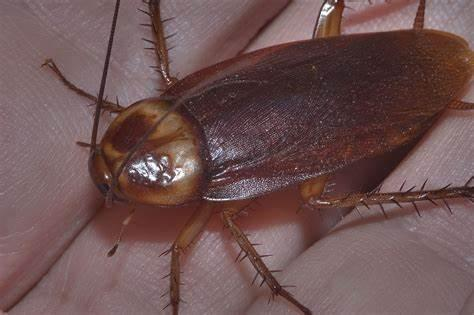cockroach: (75, 16, 474, 240)
